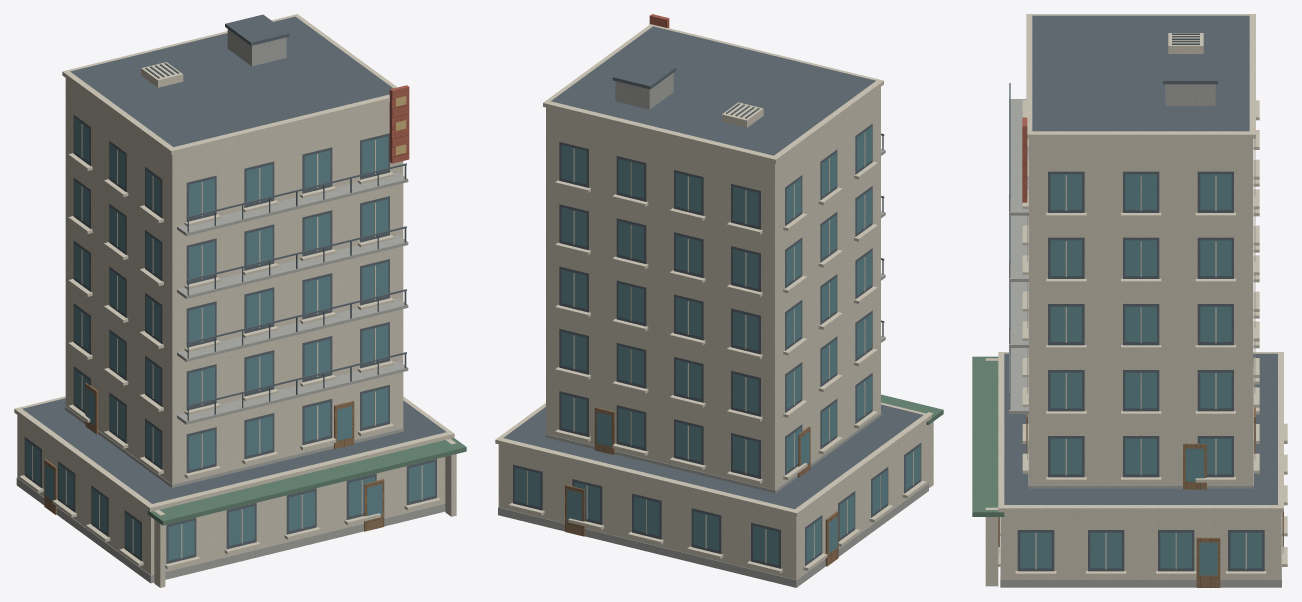
Rendered from q03-hotel.glb.
The picture shows the model from 3 angles, left to right: view 1: azimuth 30°, elevation 25°; view 2: azimuth 150°, elevation 25°; view 3: azimuth 270°, elevation 25°; orthographic projection. The views are drawn at different scales.
Size of the model in its own units: 13.46 by 18.22 by 11.26.
Materials: 8 (7 with a texture image).
